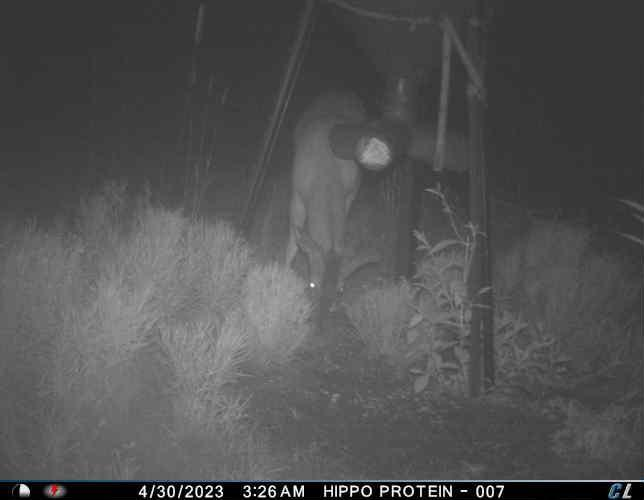Deer: (280, 82, 386, 329)
